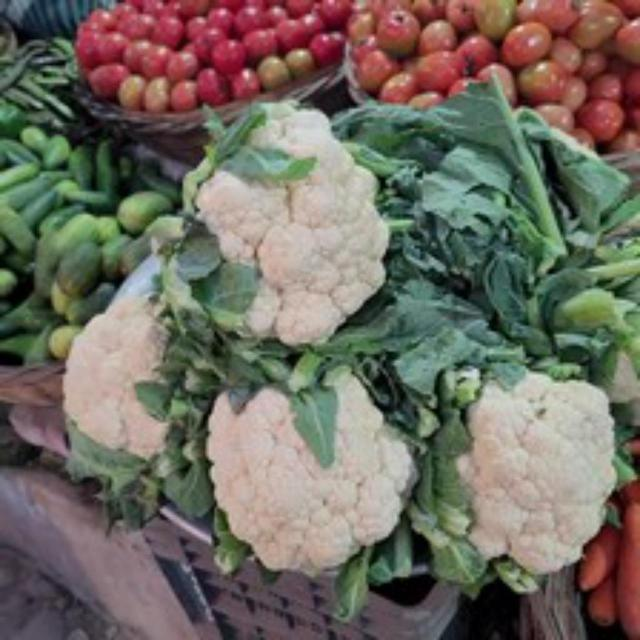cauliflower: (198, 360, 425, 588), (186, 103, 391, 344), (452, 354, 633, 589), (62, 246, 195, 469)
